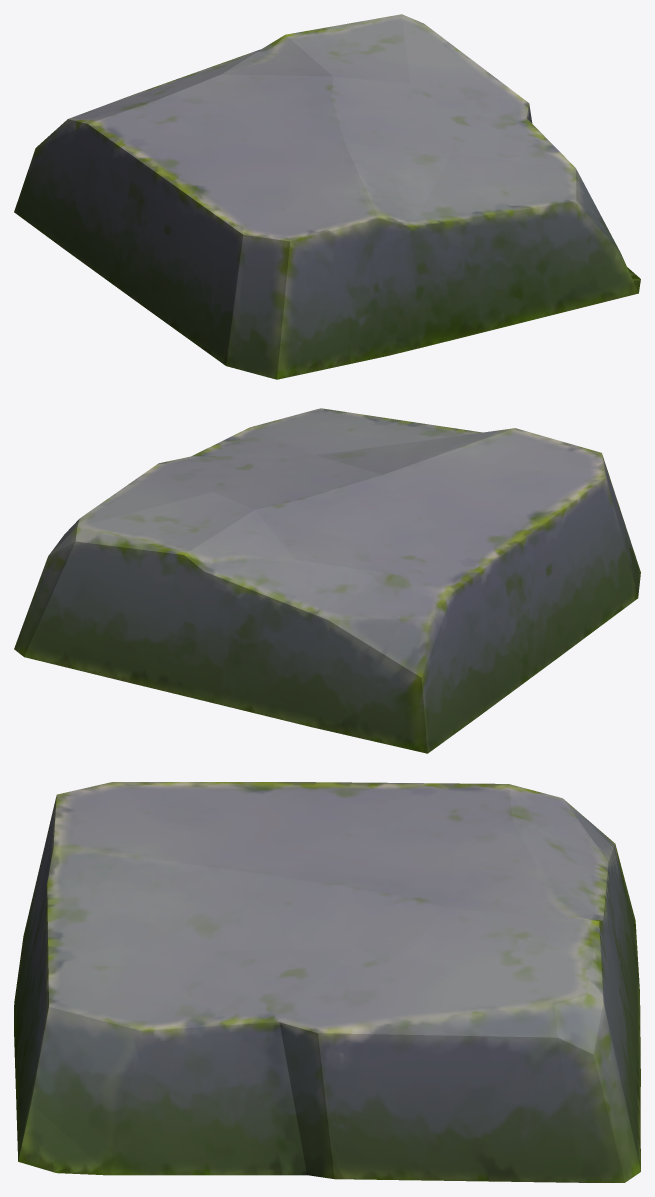
File: Pebble_Square_1.glb
3 views of the same model, one above another, from view 1: azimuth 30°, elevation 25°; view 2: azimuth 150°, elevation 25°; view 3: azimuth 270°, elevation 25° (orthographic). The views are drawn at different scales.
Visible parts, largest first — view 1: Pebble_Square_1; view 2: Pebble_Square_1; view 3: Pebble_Square_1.
Boxes of the visible parts, bbox=[...] form: Pebble_Square_1: bbox=[14, 14, 640, 379]; Pebble_Square_1: bbox=[14, 408, 640, 753]; Pebble_Square_1: bbox=[14, 782, 640, 1182].
Bounding box in the file's own units: 0.4346 × 0.1299 × 0.4396.
1 material, 1 textured.
